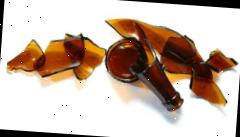glass: (126, 21, 190, 114), (6, 28, 107, 86), (189, 44, 240, 107), (104, 34, 151, 88)
